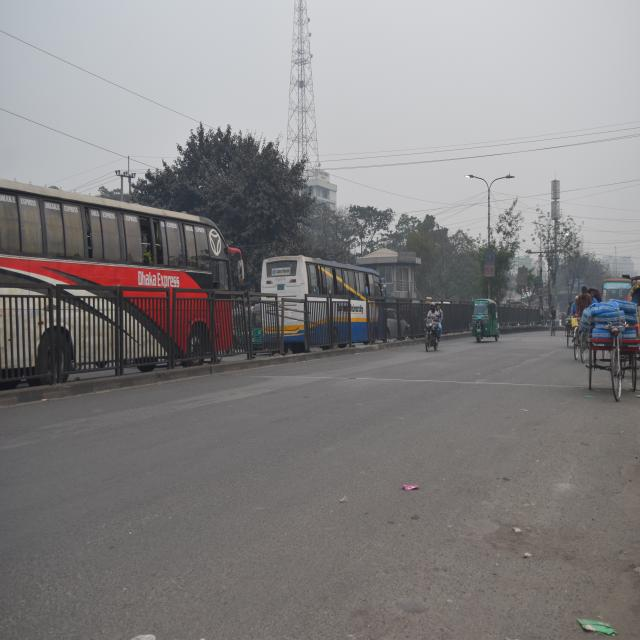bus: (0, 170, 231, 394), (260, 253, 386, 339), (599, 271, 638, 307)
motorbike: (422, 302, 442, 353)
